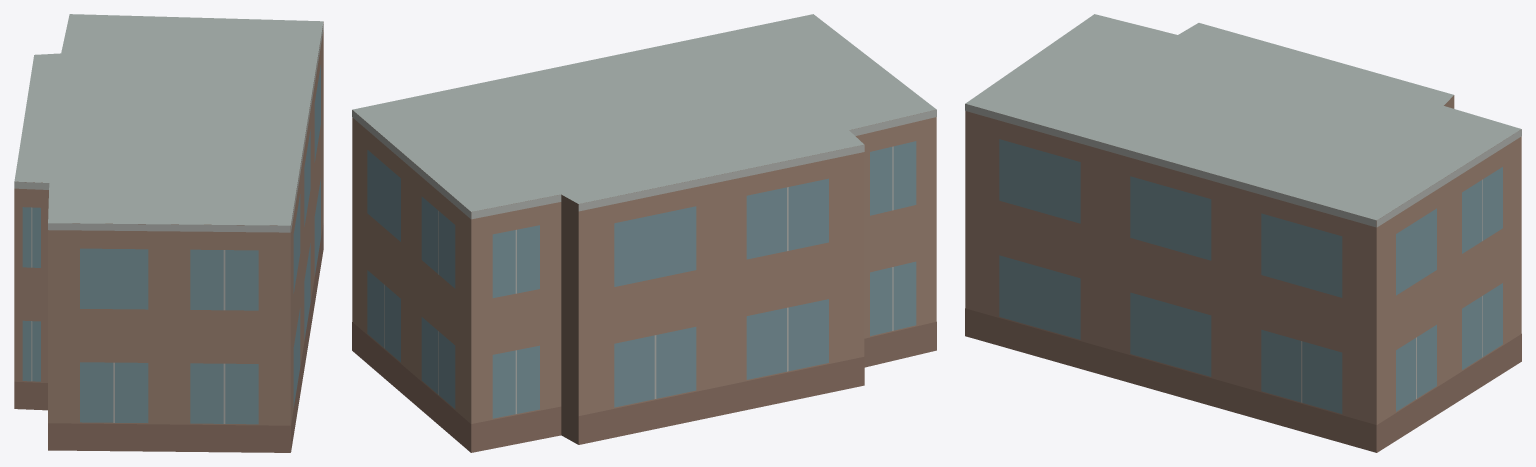
File: survey-upis-32615910.glb
3 views of the same model, side by side, from view 1: azimuth 30°, elevation 25°; view 2: azimuth 150°, elevation 25°; view 3: azimuth 270°, elevation 25° (orthographic). The views are drawn at different scales.
Parts seen in each view (by area): view 1: survey-upis-32615910.tmp; view 2: survey-upis-32615910.tmp; view 3: survey-upis-32615910.tmp.
Boxes of the visible parts, x1,y1,x2,y2 form: survey-upis-32615910.tmp: (14,14,323,452); survey-upis-32615910.tmp: (352,14,936,452); survey-upis-32615910.tmp: (965,14,1521,452).
Size of the model in its own units: 15.05 by 7.9 by 17.15.
